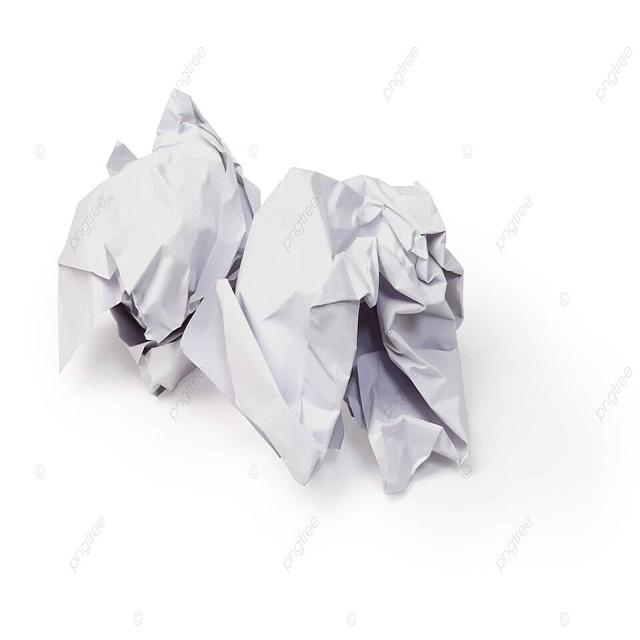Kertas: (237, 120, 513, 502), (49, 108, 263, 401)
